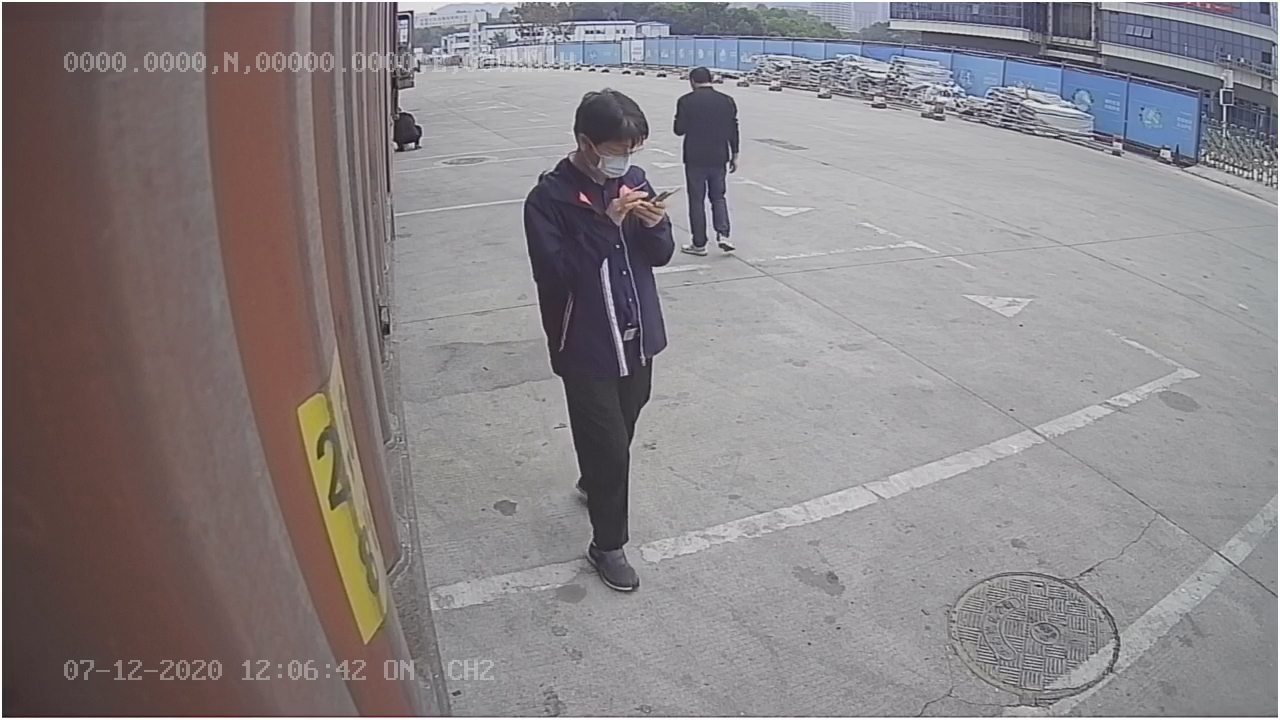person: (519, 88, 674, 593)
